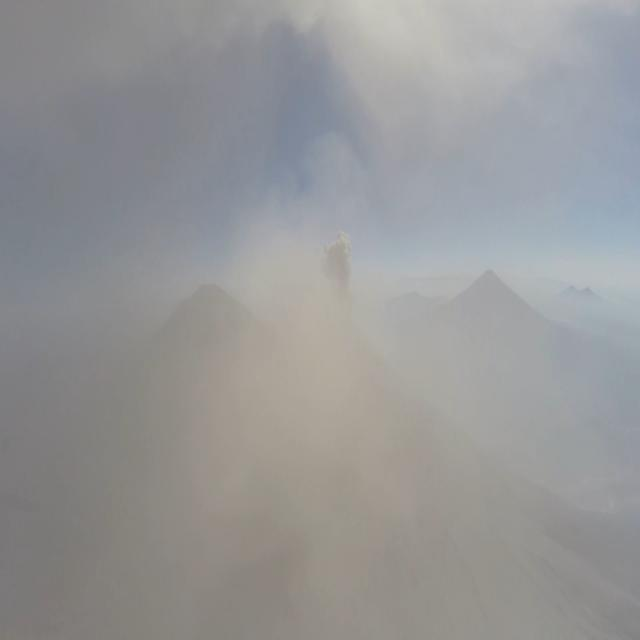Plume: (321, 226, 359, 320)
